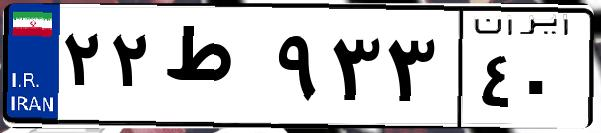0: (525, 38, 570, 115)
2: (57, 26, 110, 100), (110, 28, 158, 98)
3: (385, 28, 445, 110), (330, 28, 385, 110)
4: (475, 38, 525, 113)
9: (270, 28, 330, 110)
ط: (158, 20, 270, 120)
